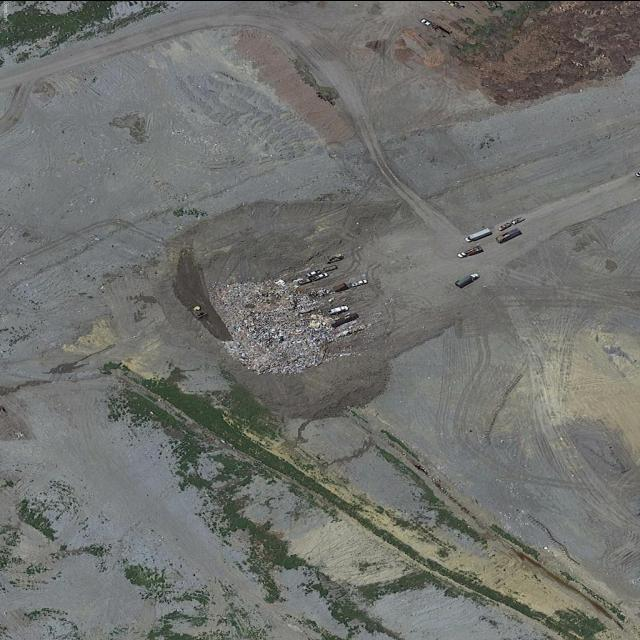dump_site: (197, 270, 357, 381)
